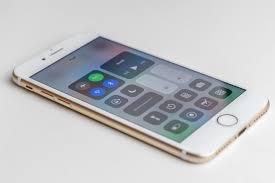Smartphone: (20, 38, 275, 168)
